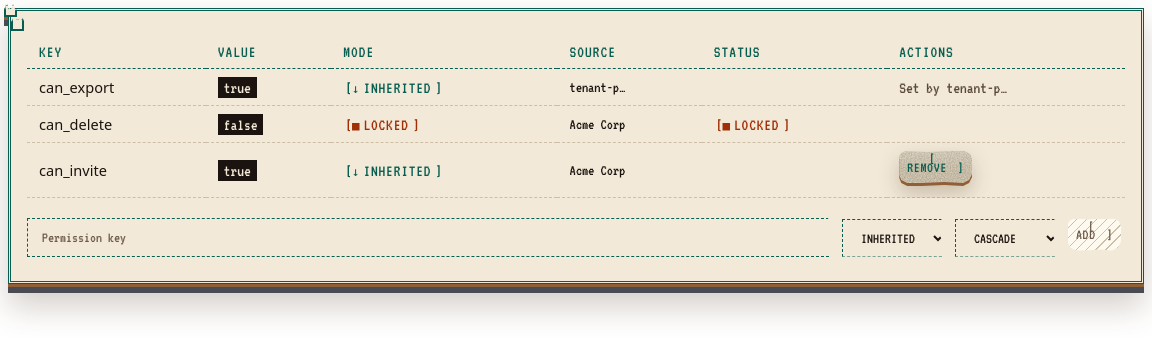
it: PermissionEditor › enables add button when a key is typed
In the field named "new permission key": (430, 238) [27, 218, 834, 257], type "can_read"
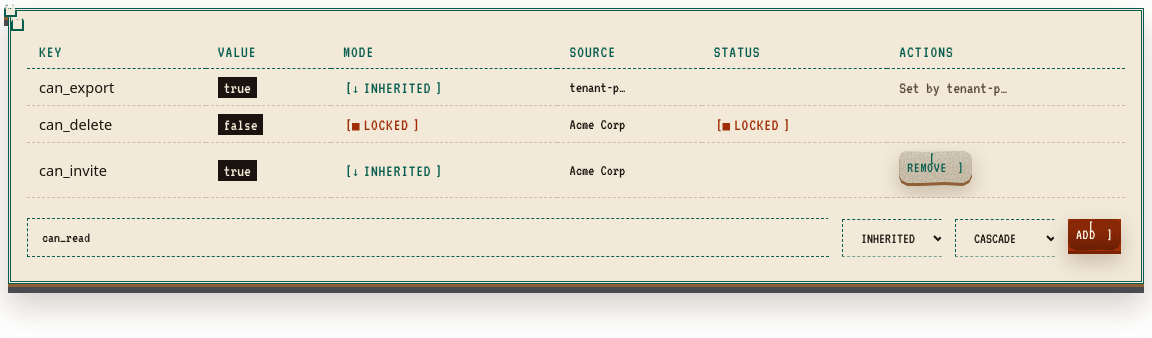
Check: the button "Add" is enabled, box [1068, 218, 1121, 250]
